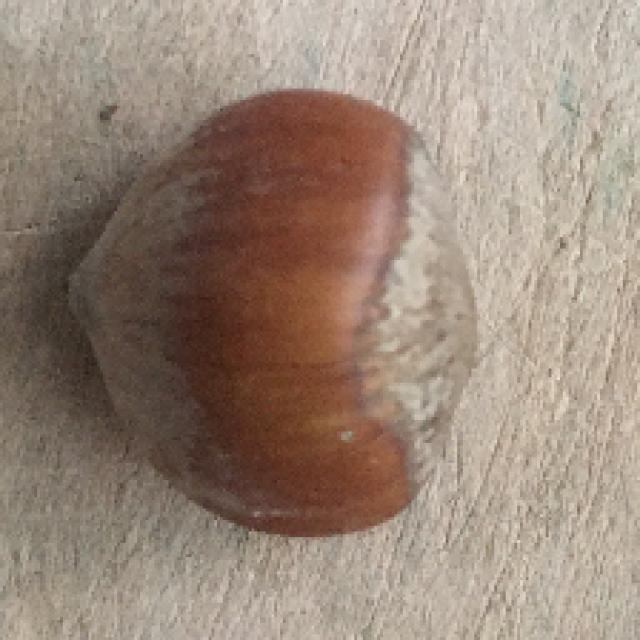qualityHazelnut: (66, 92, 484, 538)
